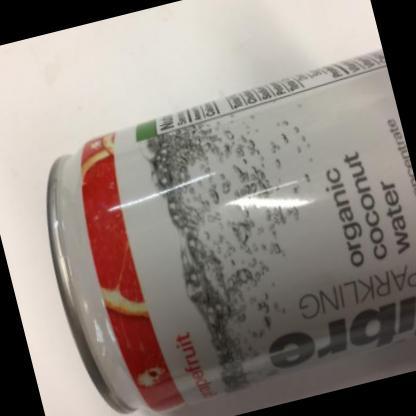Metal: (47, 50, 416, 413)
